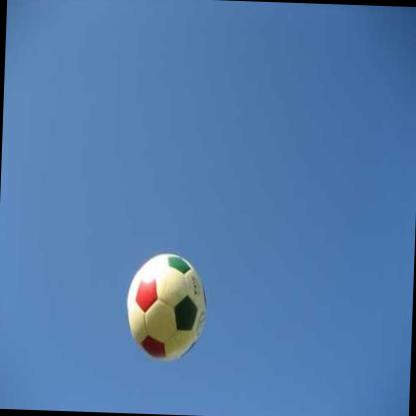ball: (125, 251, 210, 361)
